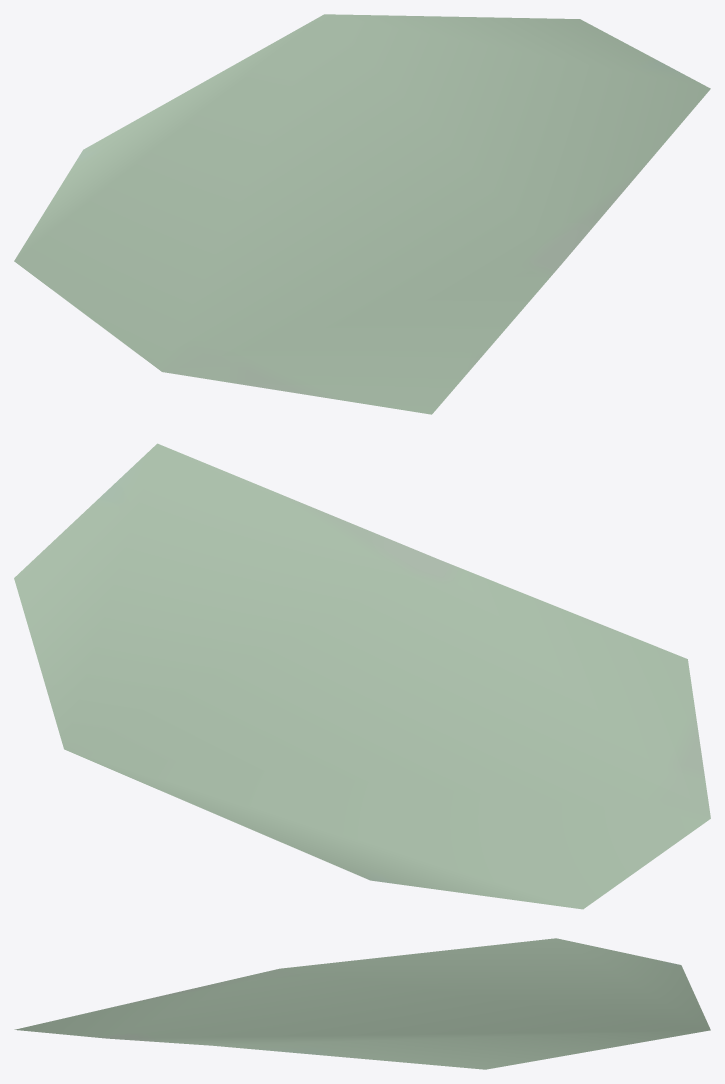
Rendered from TROLLHOLE02_HOLECAP95.fbx.
The picture shows the model from 3 angles, top to bottom: view 1: azimuth 30°, elevation 25°; view 2: azimuth 150°, elevation 25°; view 3: azimuth 270°, elevation 25°; orthographic projection. The views are drawn at different scales.
Visible parts, largest first — view 1: TROLLHOLE02_HOLECAP95; view 2: TROLLHOLE02_HOLECAP95; view 3: TROLLHOLE02_HOLECAP95.
Part boxes in pixels (<box>): TROLLHOLE02_HOLECAP95: <box>14,14,710,414</box>; TROLLHOLE02_HOLECAP95: <box>14,443,710,909</box>; TROLLHOLE02_HOLECAP95: <box>14,938,710,1069</box>.
Bounding box in the file's own units: 18677 × 6003 × 19797.
Materials: 1 (1 with a texture image).
